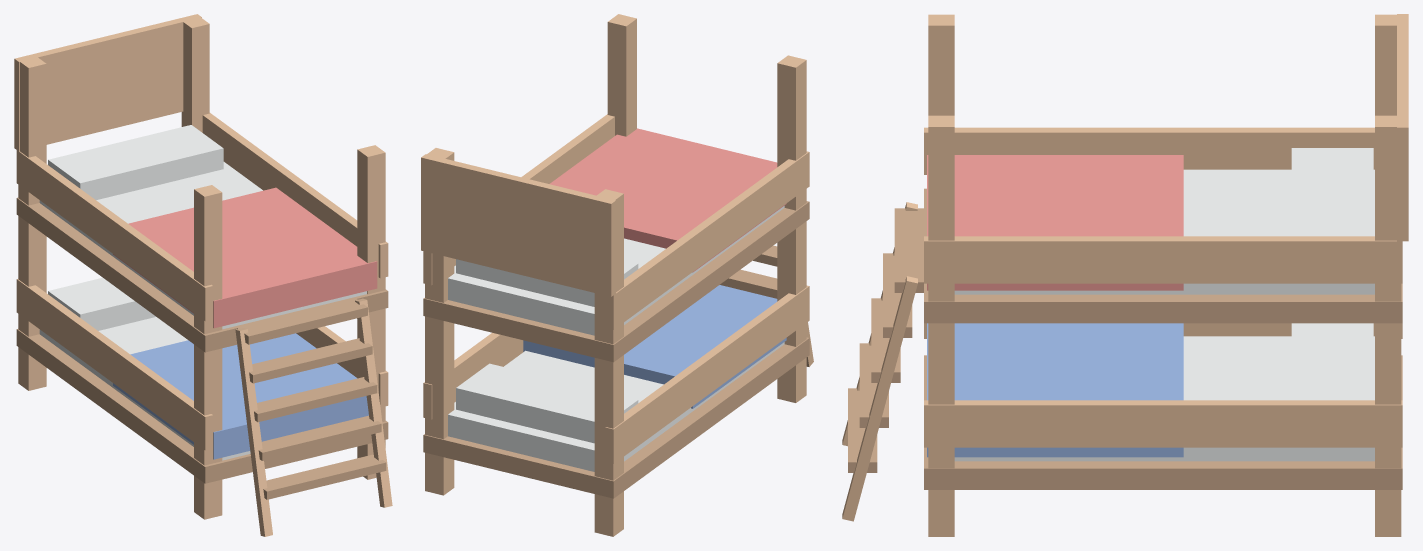
Rendered from bedBunkModern.glb.
3 views of the same model, side by side, from view 1: azimuth 30°, elevation 25°; view 2: azimuth 150°, elevation 25°; view 3: azimuth 270°, elevation 25° (orthographic). The views are drawn at different scales.
Visible parts, largest first — view 1: bedBunkModern; view 2: bedBunkModern; view 3: bedBunkModern.
Part boxes in pixels (bbox=[...]): bedBunkModern: bbox=[14, 14, 392, 536]; bedBunkModern: bbox=[421, 14, 813, 536]; bedBunkModern: bbox=[842, 14, 1408, 536].
Size of the model in its own units: 0.46 by 0.7774 by 0.9697.
